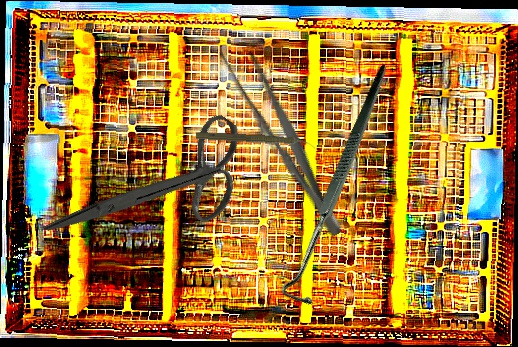Dressing Forceps: (213, 37, 354, 243)
Handpiece: (195, 129, 316, 151)
Hook Surgical: (211, 63, 473, 315)
Iris Scissors: (41, 68, 269, 308)
